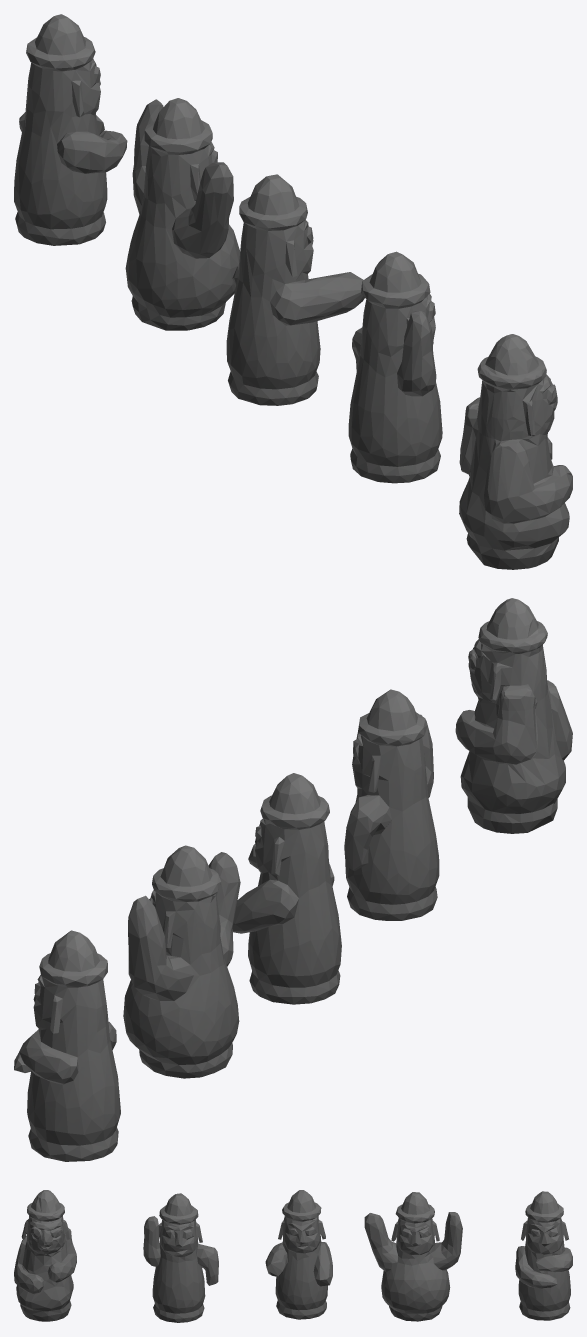
File: Dolhareubang_Set.fbx
3 renders of one model, top to bottom at view 1: azimuth 30°, elevation 25°; view 2: azimuth 150°, elevation 25°; view 3: azimuth 270°, elevation 25°, orthographic. The views are drawn at different scales.
Visible parts, largest first — view 1: Dolhareubang; view 2: Dolhareubang; view 3: Dolhareubang.
Part boxes in pixels (x1,y1,x2,y2): Dolhareubang: [14, 14, 572, 569]; Dolhareubang: [14, 598, 572, 1161]; Dolhareubang: [14, 1190, 572, 1322].
Size of the model in its own units: 124 by 240 by 999.
Materials: 1 (1 with a texture image).
